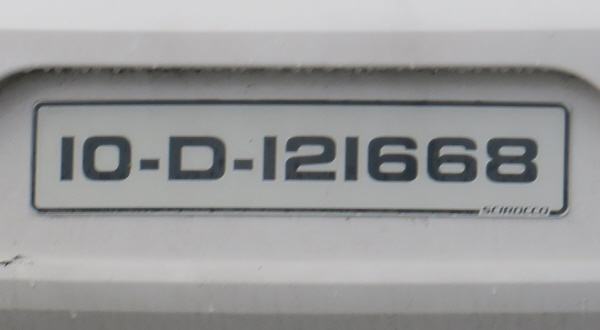license_plate: (30, 101, 568, 216)
